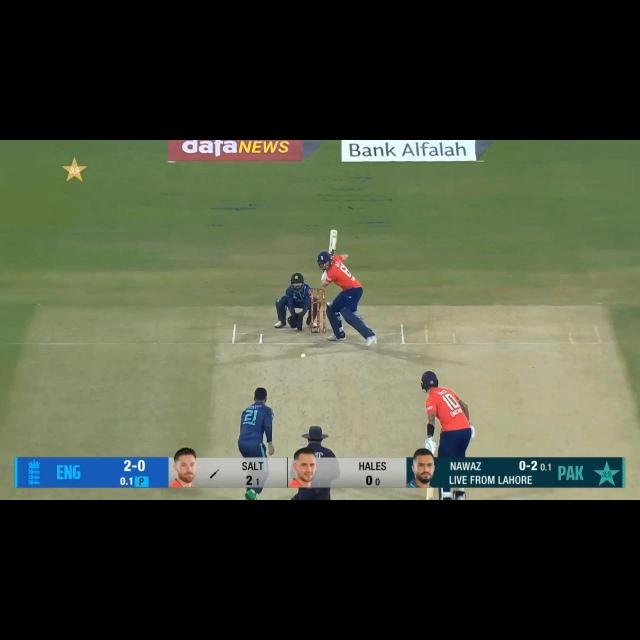bat: (326, 229, 342, 254), (424, 487, 436, 501)
toe: (328, 228, 340, 238), (426, 494, 434, 500)
